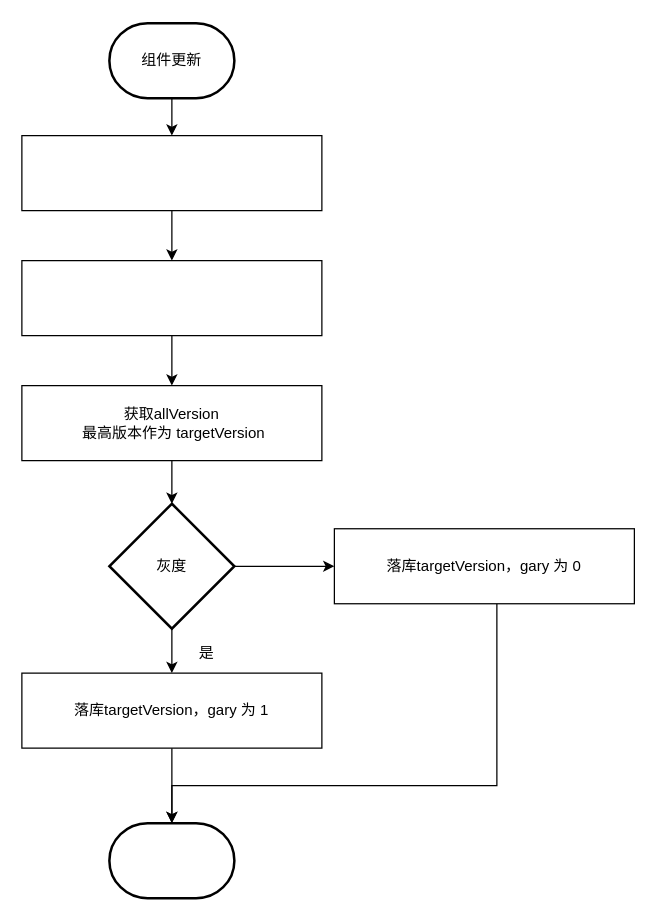
Image size: 656x920. Some labels were removed from this diagram. Each missing label, with the centre of its shape:
发起组件跟新请求: the point at 171,172
更新完毕: the point at 171,860
获取当前组件所有 com_version 作为allVersion: the point at 171,297
